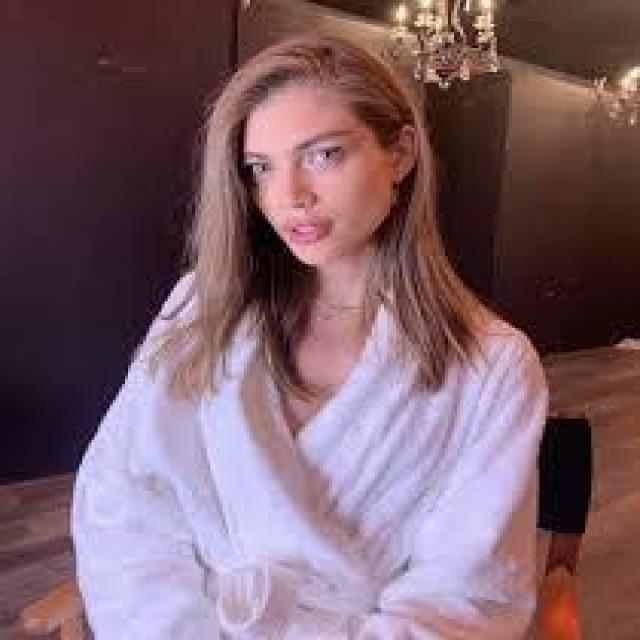person: (70, 42, 552, 634)
